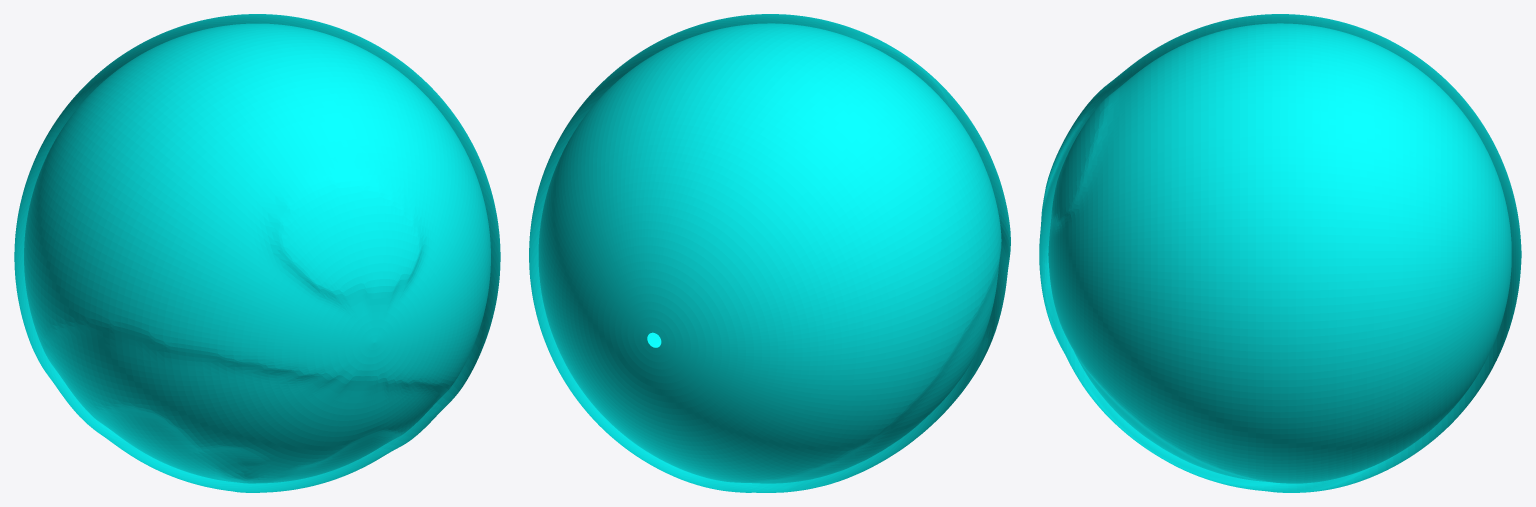
3 renders of one model, left to right at view 1: azimuth 30°, elevation 25°; view 2: azimuth 150°, elevation 25°; view 3: azimuth 270°, elevation 25°, orthographic.
Parts seen in each view (by area): view 1: Renderer Node; view 2: Renderer Node; view 3: Renderer Node.
Boxes of the visible parts, x1=… form: Renderer Node: x1=14, y1=14, x2=500, y2=492; Renderer Node: x1=529, y1=14, x2=1010, y2=492; Renderer Node: x1=1039, y1=14, x2=1521, y2=492.
Size of the model in its own units: 2.39e+16 by 2.36e+16 by 2.4e+16.
